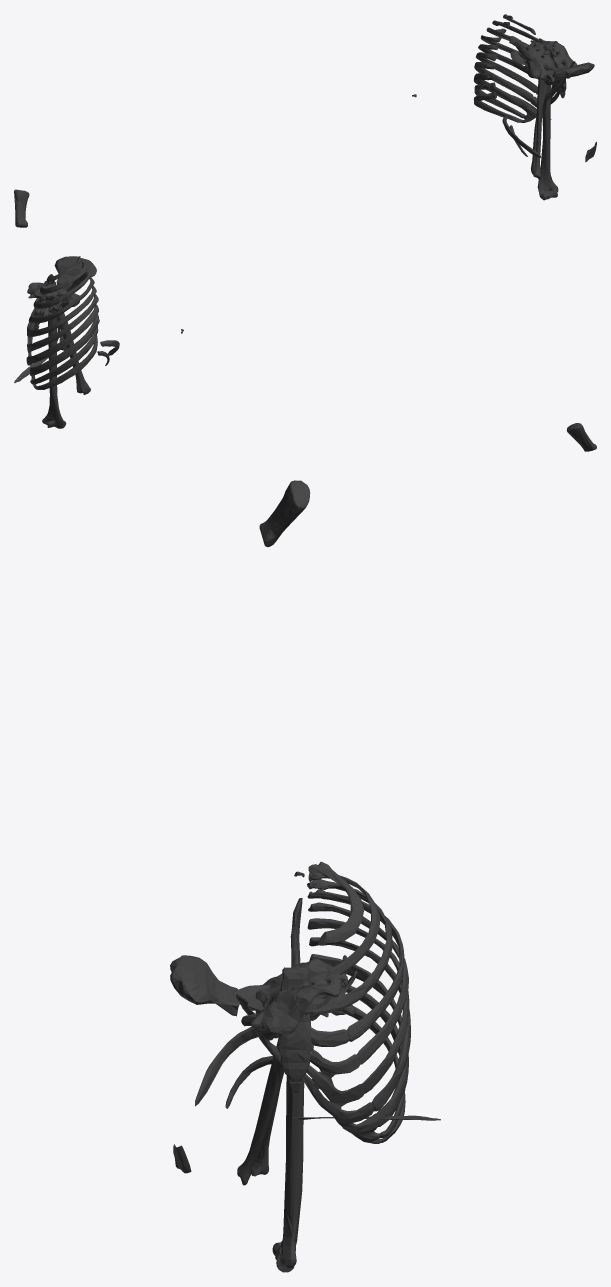
The model's file is sharedassets13.glb.
The picture shows the model from 3 angles, top to bottom: view 1: azimuth 30°, elevation 25°; view 2: azimuth 150°, elevation 25°; view 3: azimuth 270°, elevation 25°; orthographic projection. The views are drawn at different scales.
Parts seen in each view (by area): view 1: 0073_S01-05 Sacrum_male_001242, 0002_Humerus _arm, brachium_, R__000807, 0040_Eighth rib _08_, R__002280, 0003_Ulna _forearm, antebrachium_, R__000808, 0060_Seventh rib _07_, L__002291, 0047_Sixth rib _06_, R__002278, 0048_Seventh rib _07_, R__002279, 0009_2nd Middle phalanx _hand_, R__000815, 0041_Ninth rib _09_, R__002281, 0042_Tenth rib _10_, R__002282, 0036_Manubrium__001162, 0059_Sixth rib _06_, L__002290 (+1 smaller); view 2: 0002_Humerus _arm, brachium_, R__000807, 0040_Eighth rib _08_, R__002280, 0048_Seventh rib _07_, R__002279, 0036_Manubrium__001162, 0047_Sixth rib _06_, R__002278, 0041_Ninth rib _09_, R__002281, 0046_Fifth rib _05_, R__002277, 0042_Tenth rib _10_, R__002282, 0073_S01-05 Sacrum_male_001242, 0045_Fourth rib _04_, R__002276, 0009_2nd Middle phalanx _hand_, R__000815, 0044_Third rib _03_, R__002275 (+2 smaller); view 3: 0073_S01-05 Sacrum_male_001242, 0002_Humerus _arm, brachium_, R__000807, 0036_Manubrium__001162, 0047_Sixth rib _06_, R__002278, 0046_Fifth rib _05_, R__002277, 0048_Seventh rib _07_, R__002279, 0045_Fourth rib _04_, R__002276, 0037_Body of sternum__001163, 0040_Eighth rib _08_, R__002280, 0044_Third rib _03_, R__002275, 0009_2nd Middle phalanx _hand_, R__000815, 0003_Ulna _forearm, antebrachium_, R__000808 (+3 smaller).
Boxes of the visible parts, bbox=[...] form: 0073_S01-05 Sacrum_male_001242: bbox=[525, 38, 577, 85]; 0002_Humerus _arm, brachium_, R__000807: bbox=[537, 85, 558, 200]; 0040_Eighth rib _08_, R__002280: bbox=[473, 73, 542, 118]; 0003_Ulna _forearm, antebrachium_, R__000808: bbox=[533, 50, 549, 179]; 0060_Seventh rib _07_, L__002291: bbox=[474, 64, 559, 106]; 0047_Sixth rib _06_, R__002278: bbox=[476, 52, 556, 97]; 0048_Seventh rib _07_, R__002279: bbox=[474, 62, 559, 107]; 0009_2nd Middle phalanx _hand_, R__000815: bbox=[14, 189, 29, 227]; 0041_Ninth rib _09_, R__002281: bbox=[474, 82, 534, 120]; 0042_Tenth rib _10_, R__002282: bbox=[473, 91, 529, 122]; 0036_Manubrium__001162: bbox=[552, 62, 594, 80]; 0059_Sixth rib _06_, L__002290: bbox=[476, 52, 556, 97]; 0002_Humerus _arm, brachium_, R__000807: bbox=[42, 317, 66, 428]; 0040_Eighth rib _08_, R__002280: bbox=[30, 314, 99, 376]; 0048_Seventh rib _07_, R__002279: bbox=[26, 304, 98, 365]; 0036_Manubrium__001162: bbox=[54, 256, 96, 286]; 0047_Sixth rib _06_, R__002278: bbox=[27, 294, 98, 352]; 0041_Ninth rib _09_, R__002281: bbox=[30, 326, 98, 384]; 0046_Fifth rib _05_, R__002277: bbox=[27, 285, 96, 337]; 0042_Tenth rib _10_, R__002282: bbox=[33, 335, 97, 389]; 0073_S01-05 Sacrum_male_001242: bbox=[27, 282, 79, 307]; 0045_Fourth rib _04_, R__002276: bbox=[28, 277, 94, 323]; 0009_2nd Middle phalanx _hand_, R__000815: bbox=[566, 423, 596, 451]; 0044_Third rib _03_, R__002275: bbox=[33, 269, 91, 308]; 0073_S01-05 Sacrum_male_001242: bbox=[241, 959, 347, 1040]; 0002_Humerus _arm, brachium_, R__000807: bbox=[272, 1076, 304, 1272]; 0036_Manubrium__001162: bbox=[170, 955, 239, 1016]; 0047_Sixth rib _06_, R__002278: bbox=[306, 918, 409, 1106]; 0046_Fifth rib _05_, R__002277: bbox=[308, 902, 408, 1077]; 0048_Seventh rib _07_, R__002279: bbox=[302, 937, 410, 1126]; 0045_Fourth rib _04_, R__002276: bbox=[307, 889, 404, 1046]; 0037_Body of sternum__001163: bbox=[277, 967, 313, 1082]; 0040_Eighth rib _08_, R__002280: bbox=[309, 954, 408, 1137]; 0044_Third rib _03_, R__002275: bbox=[307, 879, 392, 1014]; 0009_2nd Middle phalanx _hand_, R__000815: bbox=[259, 480, 310, 546]; 0003_Ulna _forearm, antebrachium_, R__000808: bbox=[237, 1035, 284, 1185].
Size of the model in its own units: 0.6797 by 0.2153 by 0.1422.
Materials: 1 (1 with a texture image).
